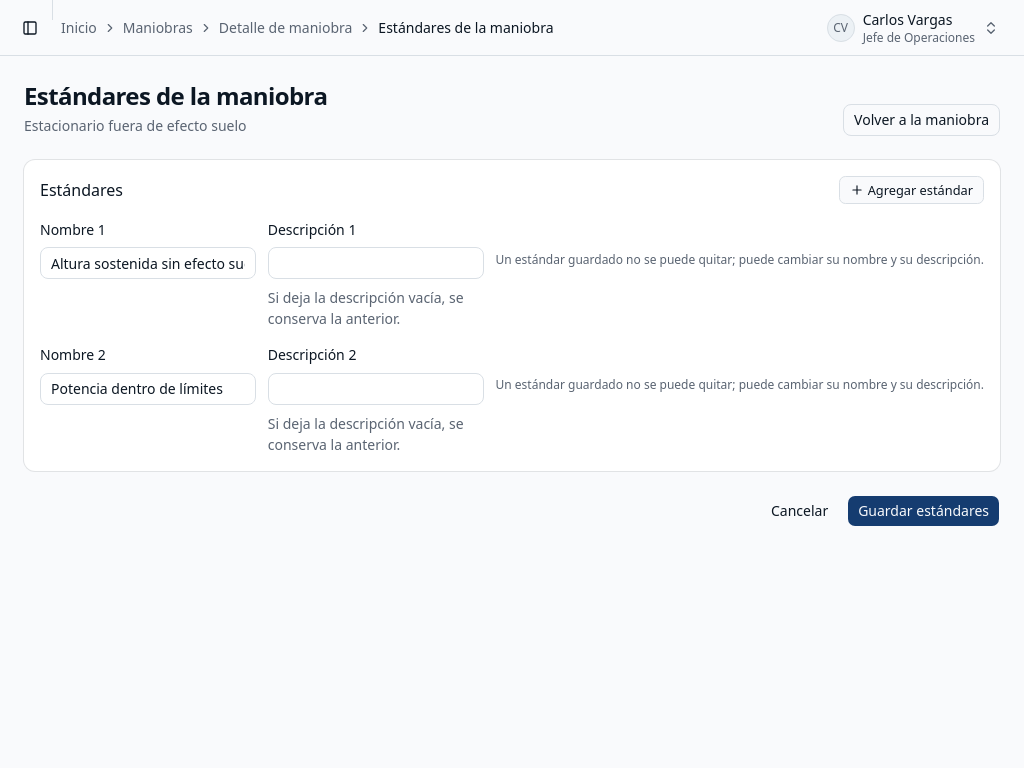
Estándares de la maniobra › CA-EST-02 y CA-EST-04 edita los estándares y vuelve al detalle con el aviso
The image size is (1024, 768).
Expected: the heading "Estándares de la maniobra" is shown, [24, 80, 327, 112]
Expected: the field labelled "Nombre 1" holds "Altura sostenida sin efecto suelo", [40, 247, 256, 279]
In the field labelled "Descripción 1": point(376, 263) [268, 247, 484, 279], type "Mantener altitud ±50 ft"
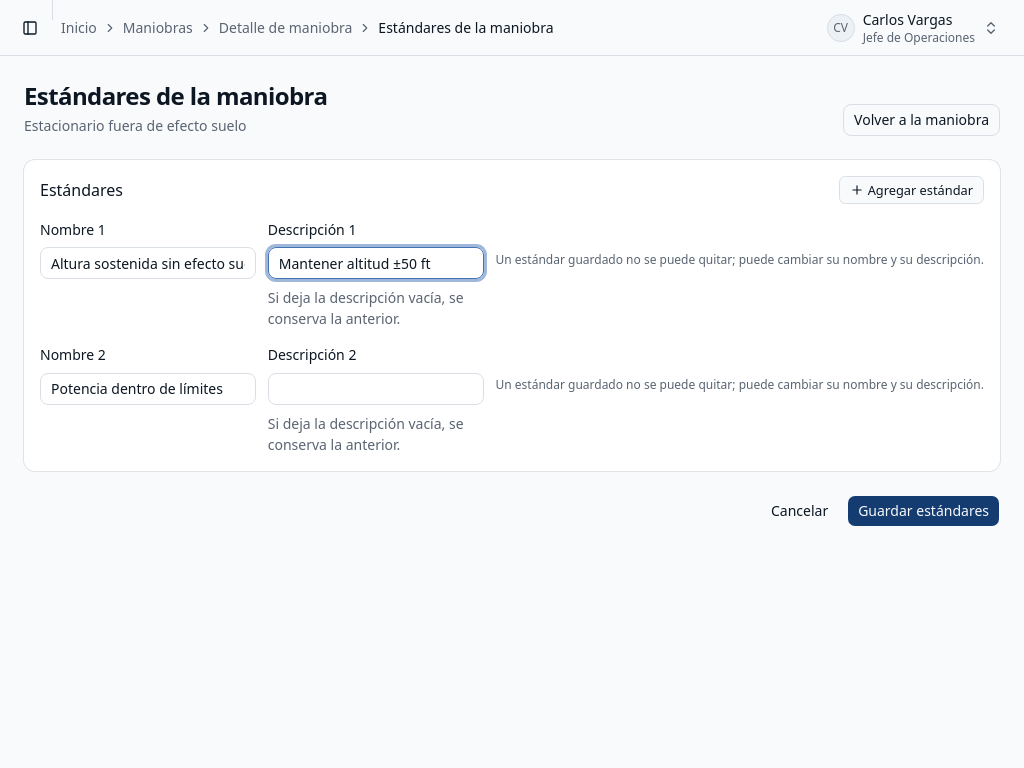
Click the button "Agregar estándar": point(911, 190) [839, 176, 984, 204]
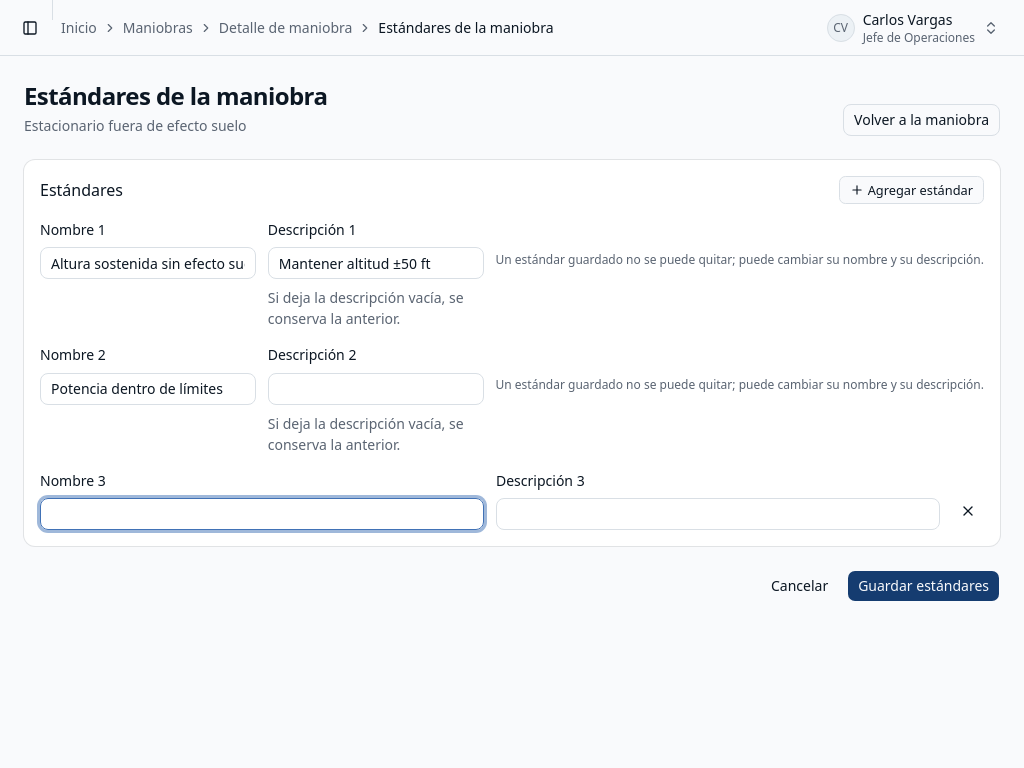
In the field labelled "Nombre 3": point(262, 514) [40, 498, 484, 530], type "Mantener rumbo ±5°"
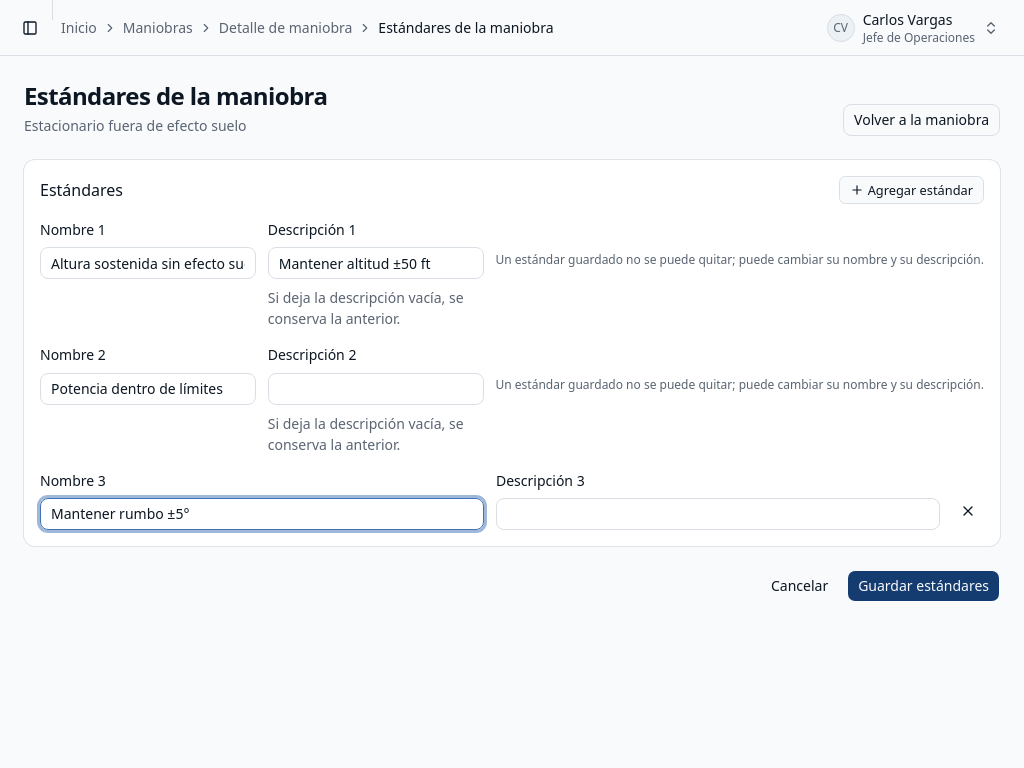
Click the button "Guardar estándares": point(924, 586) [847, 570, 1000, 602]
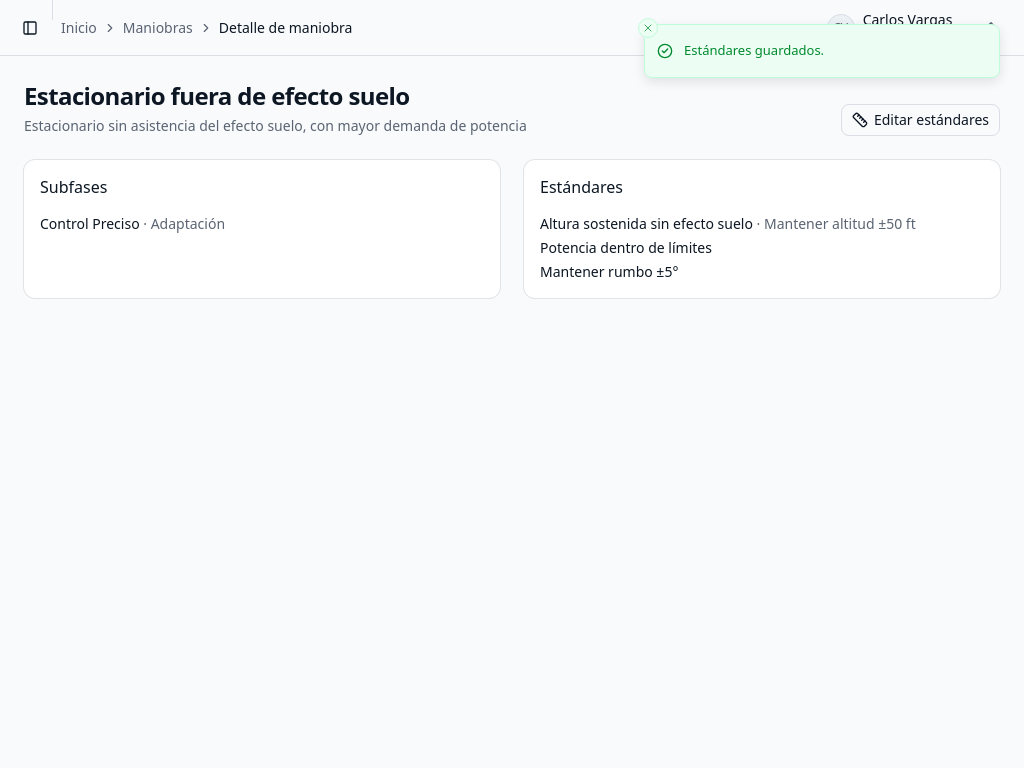
Now the text "Estándares guardados." is shown, box [684, 41, 824, 60]
Now the list item "Mantener rumbo ±5°" is shown, box [540, 262, 678, 281]
Now the text "· Mantener altitud ±50 ft" is shown, box [753, 214, 916, 233]
